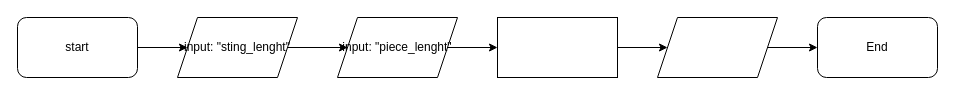
This 955x95 diagram has some shape labels left out. Here are the shapes that lost their labels. From the top down, the centre of each, then its label:
(557,47): "piece_count" = "sting_lenght" divided by "piece_lenght"
(717,47): Output: "piece_count"
